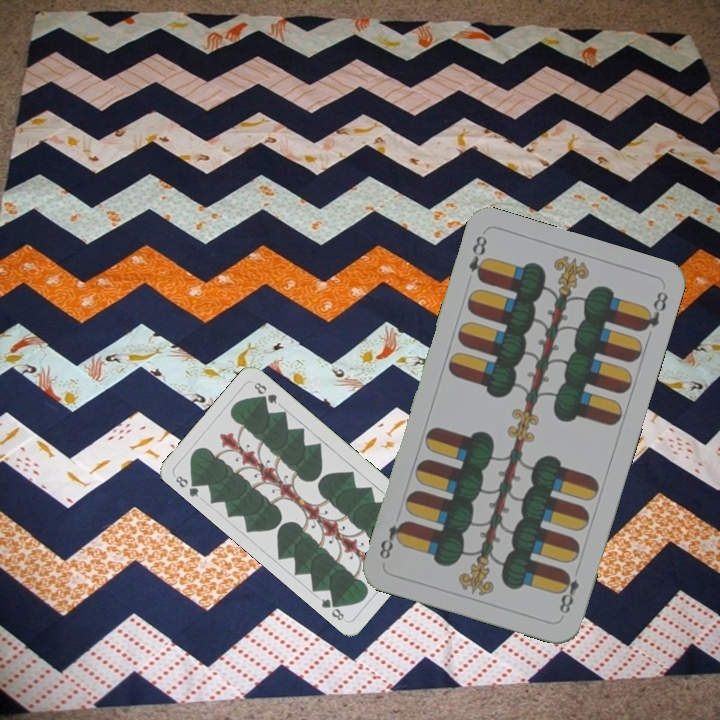E8: (464, 231, 491, 284), (555, 567, 582, 617)
G8: (171, 471, 203, 500)
